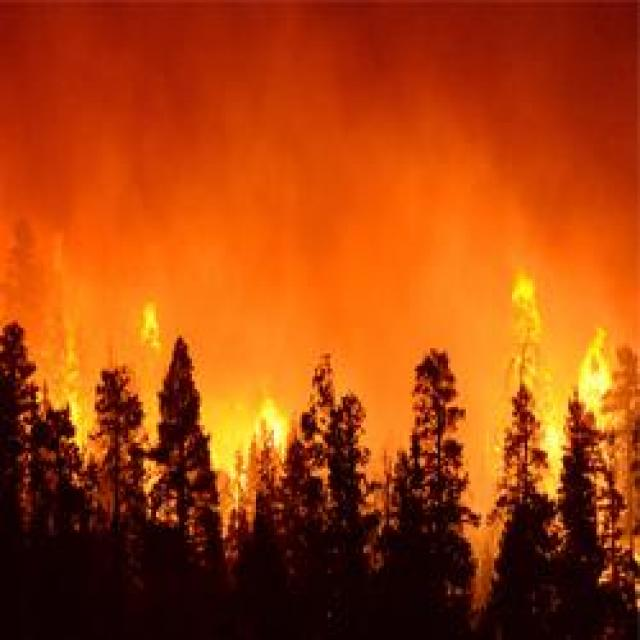fire: (54, 283, 187, 444), (498, 269, 550, 502), (236, 378, 304, 534), (564, 304, 616, 431)
